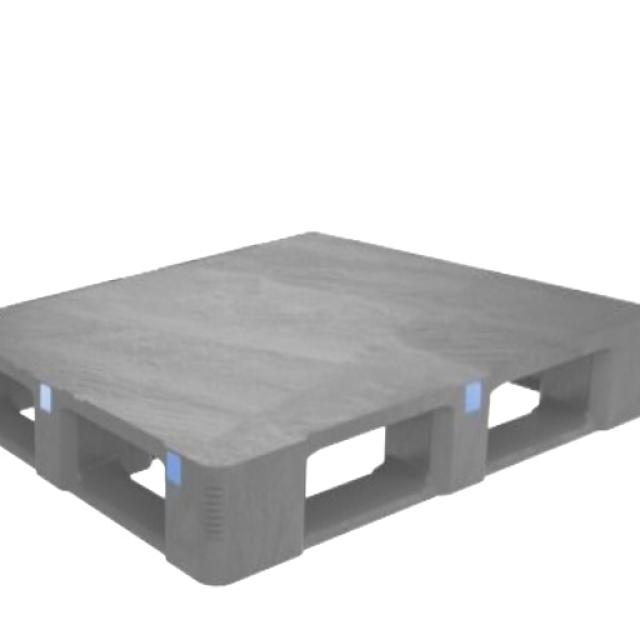non-igps: (0, 223, 640, 590)
